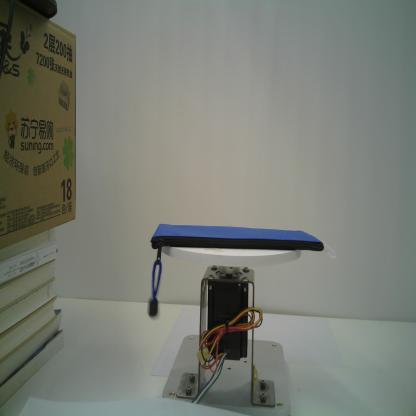Stationery: (144, 223, 326, 318)
